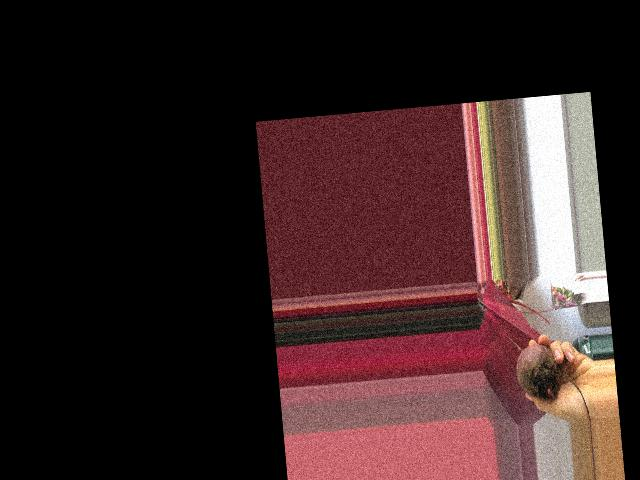beet: (505, 329, 590, 425)
